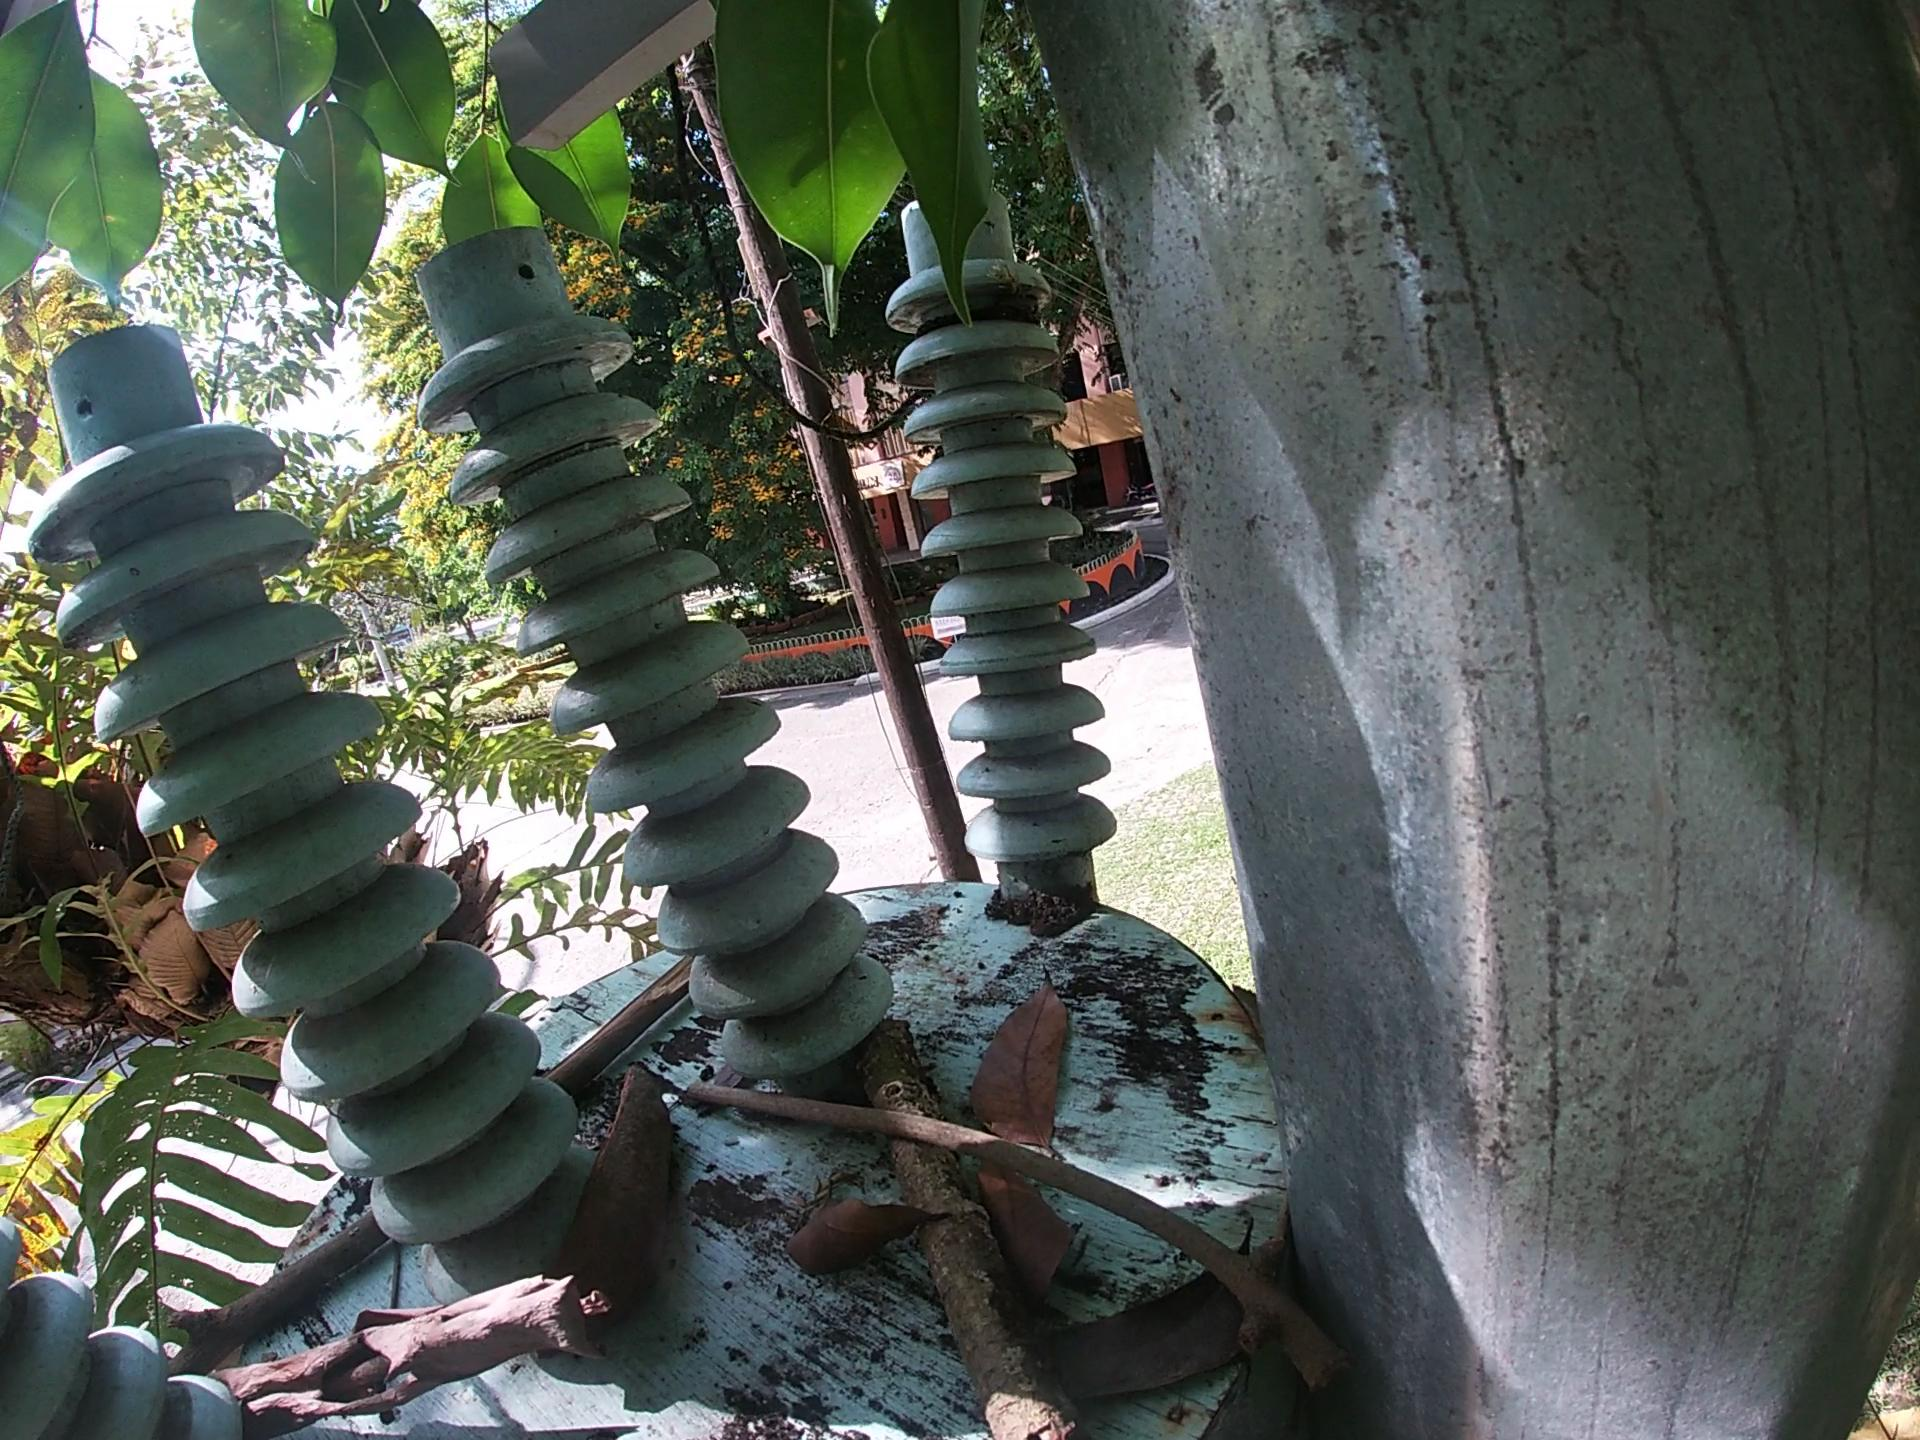leaf: (1034, 1207, 1281, 1414), (966, 959, 1082, 1162), (780, 1187, 962, 1290), (980, 1165, 1076, 1310)
mahogany fruit: (546, 1059, 685, 1364)
tree branch: (680, 1078, 1361, 1392), (845, 1004, 1092, 1438), (200, 1265, 614, 1438), (163, 1212, 395, 1381), (543, 953, 712, 1103)
